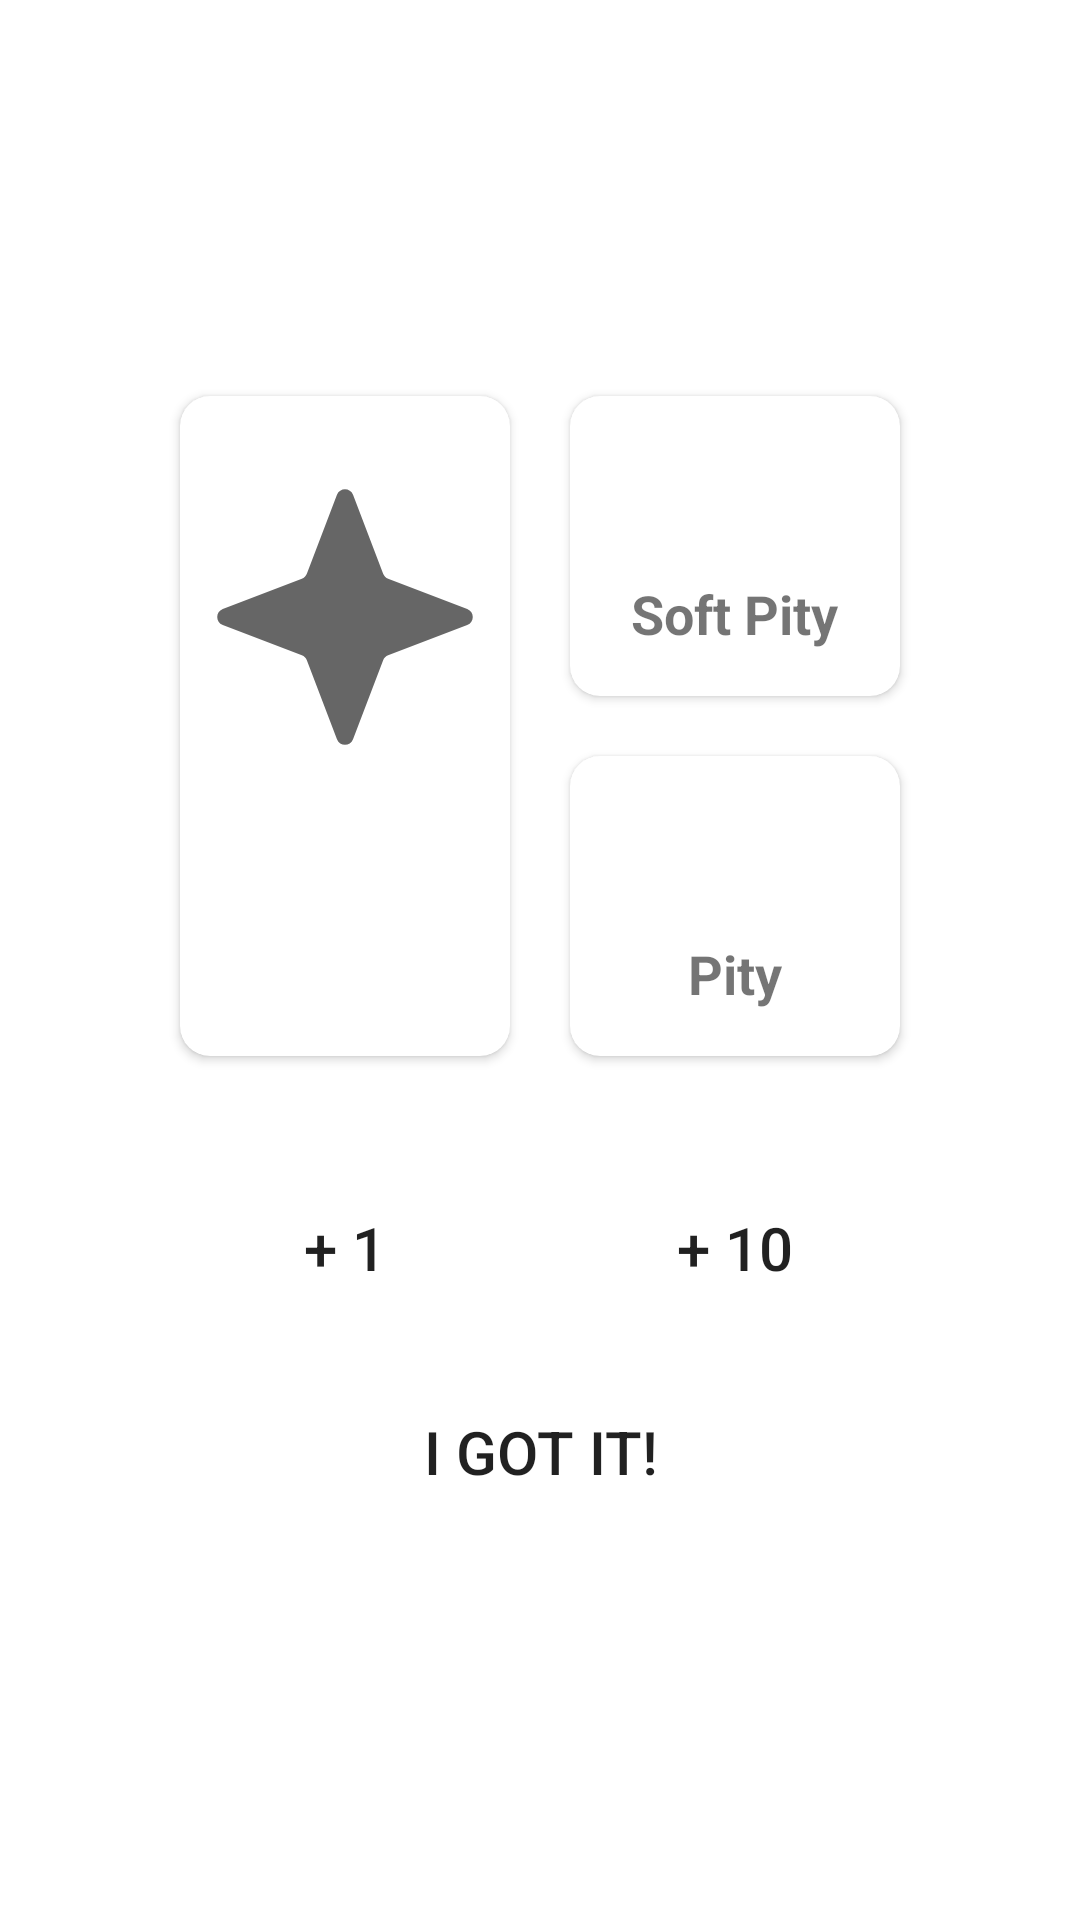

Icons on this 1080×1920 Android screen, each with its box as bbox(x1, y1, x2, y2):
wish: bbox(217, 489, 473, 745)
